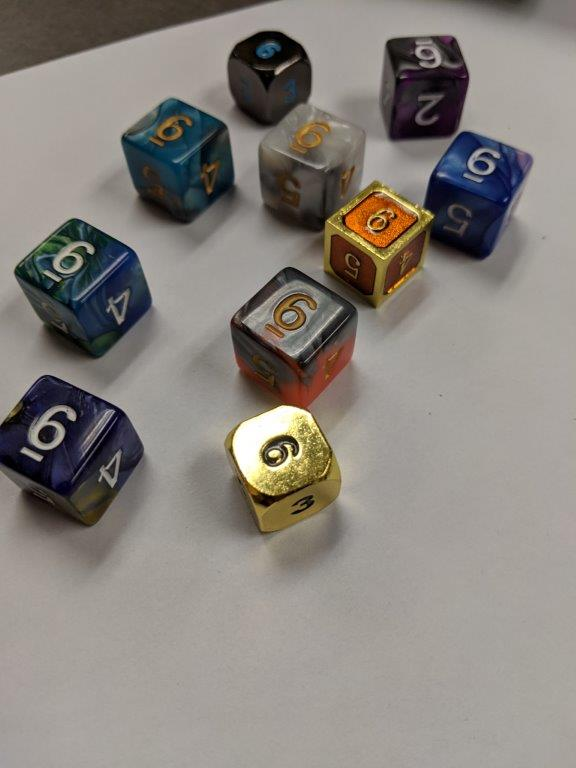d6-6: (1, 370, 145, 531), (8, 217, 154, 358), (233, 269, 357, 408), (225, 404, 343, 537), (320, 177, 432, 309), (120, 98, 233, 222), (427, 133, 533, 263), (261, 104, 370, 225), (382, 35, 470, 140), (227, 31, 312, 124)
